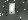person: (10, 4, 16, 15)
